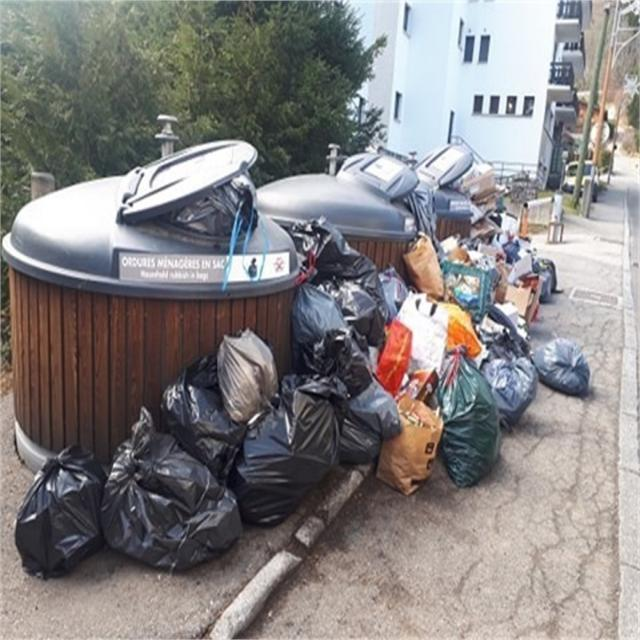garbage: (0, 156, 606, 580)
